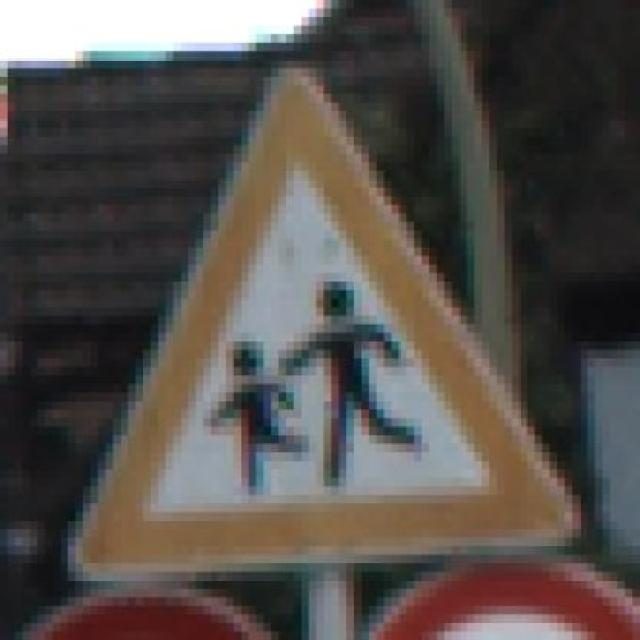Beware of children: (45, 60, 588, 589)
